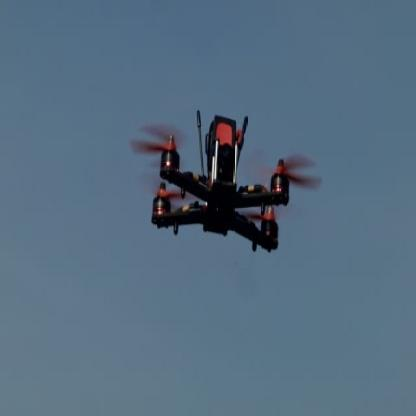drone: (126, 96, 325, 269)
